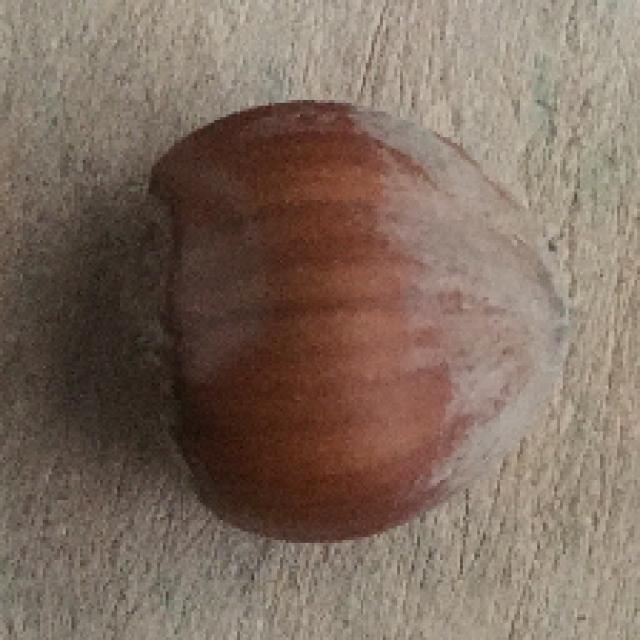qualityHazelnut: (99, 106, 577, 547)
